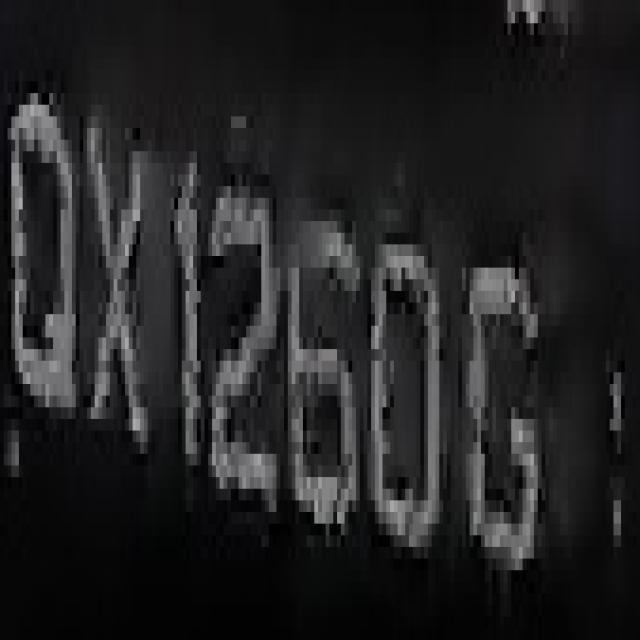0: (364, 163, 451, 605)
1: (163, 117, 208, 536)
2: (201, 105, 276, 535)
6: (280, 175, 356, 570)
G: (458, 198, 549, 582)
Q: (12, 46, 80, 454)
X: (68, 70, 155, 500)
